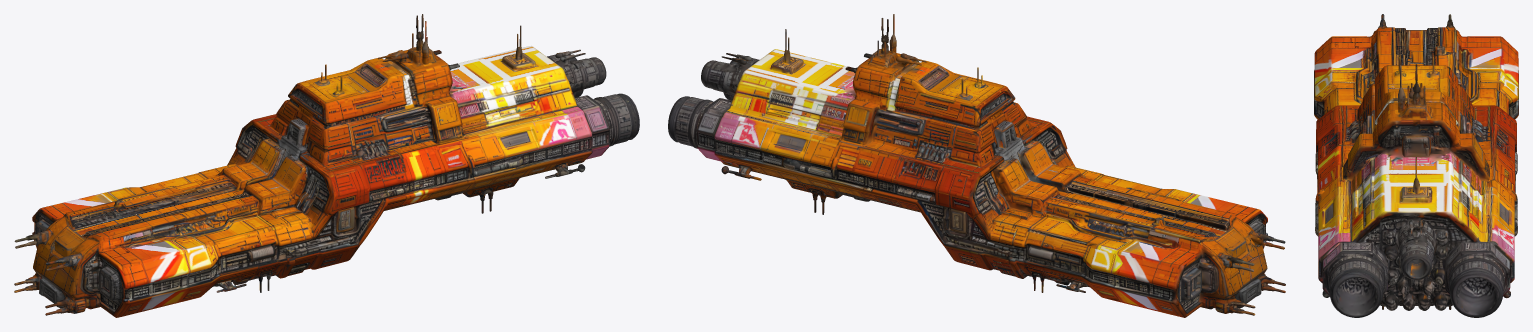
The model's file is PWC_Spaceship.glb.
3 views of the same model, side by side, from view 1: azimuth 30°, elevation 25°; view 2: azimuth 150°, elevation 25°; view 3: azimuth 270°, elevation 25° (orthographic). The views are drawn at different scales.
Parts seen in each view (by area): view 1: node_0; view 2: node_0; view 3: node_0.
Boxes of the visible parts, <box> form: node_0: <box>14,14,639,317</box>; node_0: <box>668,14,1285,317</box>; node_0: <box>1314,14,1518,317</box>.
Size of the model in its own units: 1.14 by 0.3849 by 0.3275.
Materials: 1 (1 with a texture image).
